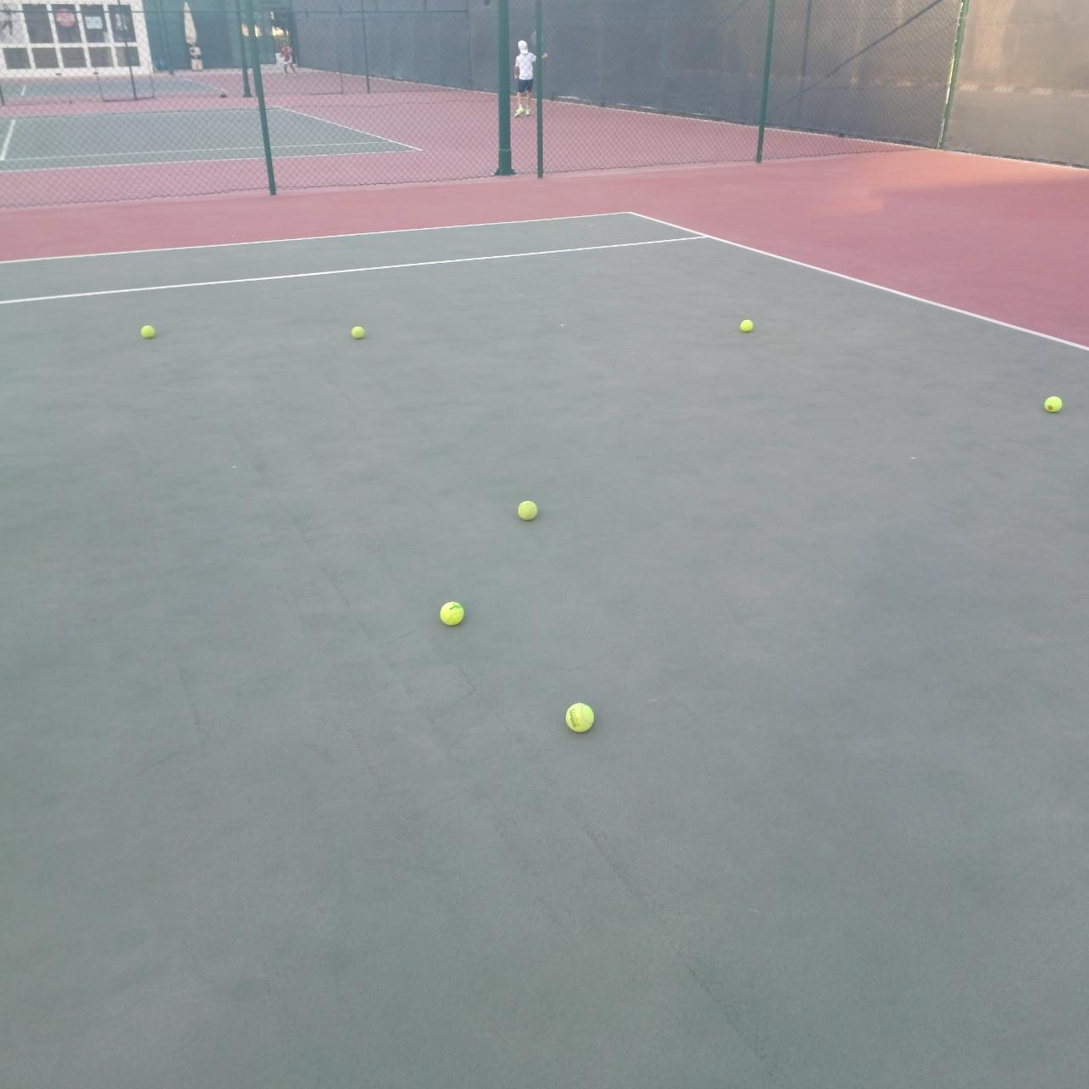tennis-ball: (563, 700, 595, 733), (439, 602, 465, 626), (516, 498, 539, 521), (1042, 393, 1063, 413), (139, 322, 156, 339), (738, 316, 754, 333), (349, 323, 366, 339)
